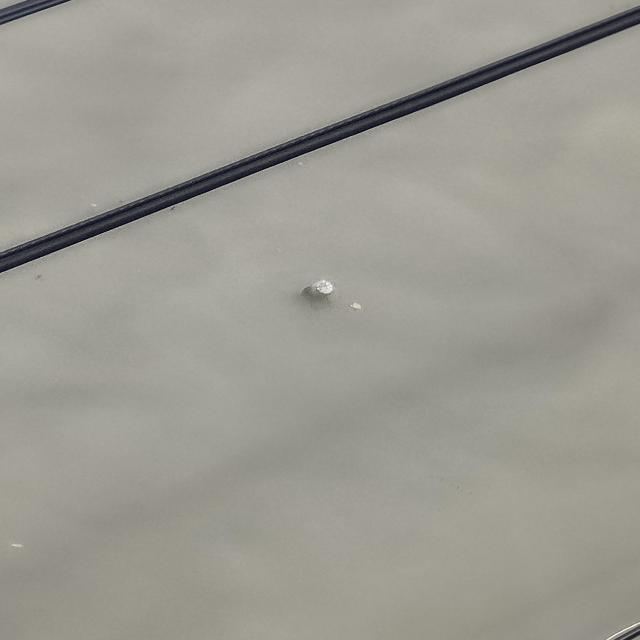Plastic: (296, 278, 341, 306), (349, 300, 364, 316)
